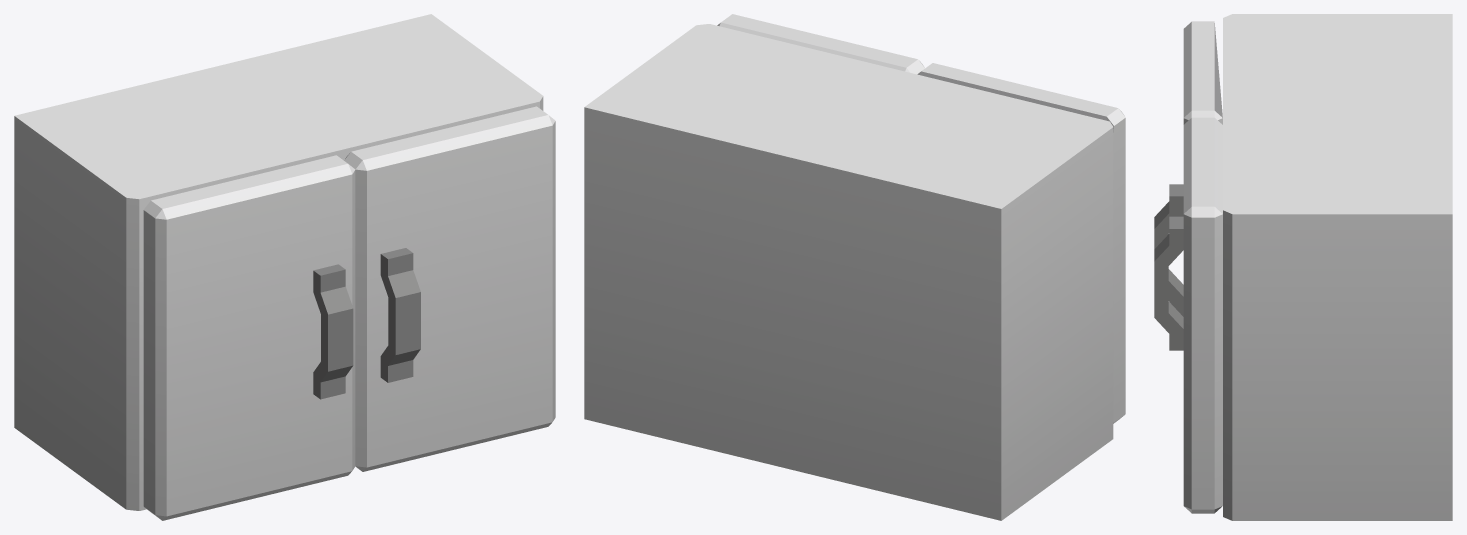
The model's file is Cabinet_01_L_C02.fbx.
The picture shows the model from 3 angles, left to right: view 1: azimuth 30°, elevation 25°; view 2: azimuth 150°, elevation 25°; view 3: azimuth 270°, elevation 25°; orthographic projection.
Parts seen in each view (by area): view 1: Cabinet_01_L_C02, Cabinet_01_L_C02_Door_R, Cabinet_01_L_C02_Door_L; view 2: Cabinet_01_L_C02, Cabinet_01_L_C02_Door_R, Cabinet_01_L_C02_Door_L; view 3: Cabinet_01_L_C02, Cabinet_01_L_C02_Door_L, Cabinet_01_L_C02_Door_R.
Part boxes in pixels (x1,y1,x2,y2): Cabinet_01_L_C02: (14,14,543,510); Cabinet_01_L_C02_Door_R: (143,155,355,520); Cabinet_01_L_C02_Door_L: (344,106,555,471); Cabinet_01_L_C02: (584,24,1113,520); Cabinet_01_L_C02_Door_R: (917,63,1125,423); Cabinet_01_L_C02_Door_L: (717,14,924,74); Cabinet_01_L_C02: (1223,14,1452,520); Cabinet_01_L_C02_Door_L: (1154,117,1222,513); Cabinet_01_L_C02_Door_R: (1154,21,1222,316).
Bounding box in the file's own units: 100 × 71.44 × 62.96.
